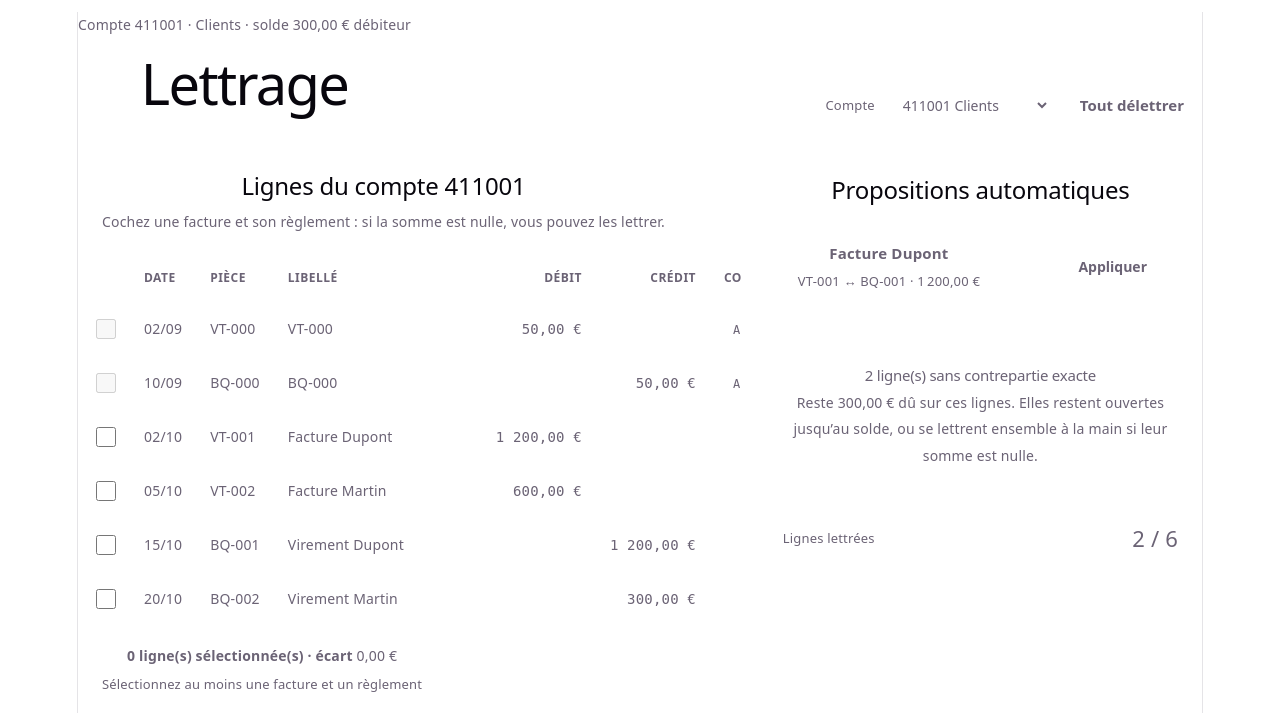
Test: LettrageView › délettre un code depuis le tableau
This screenshot has width=1280, height=713.
Click the button with class "code-button" in the row of "02/09". click: (737,330)
box: [724,320,749,340]
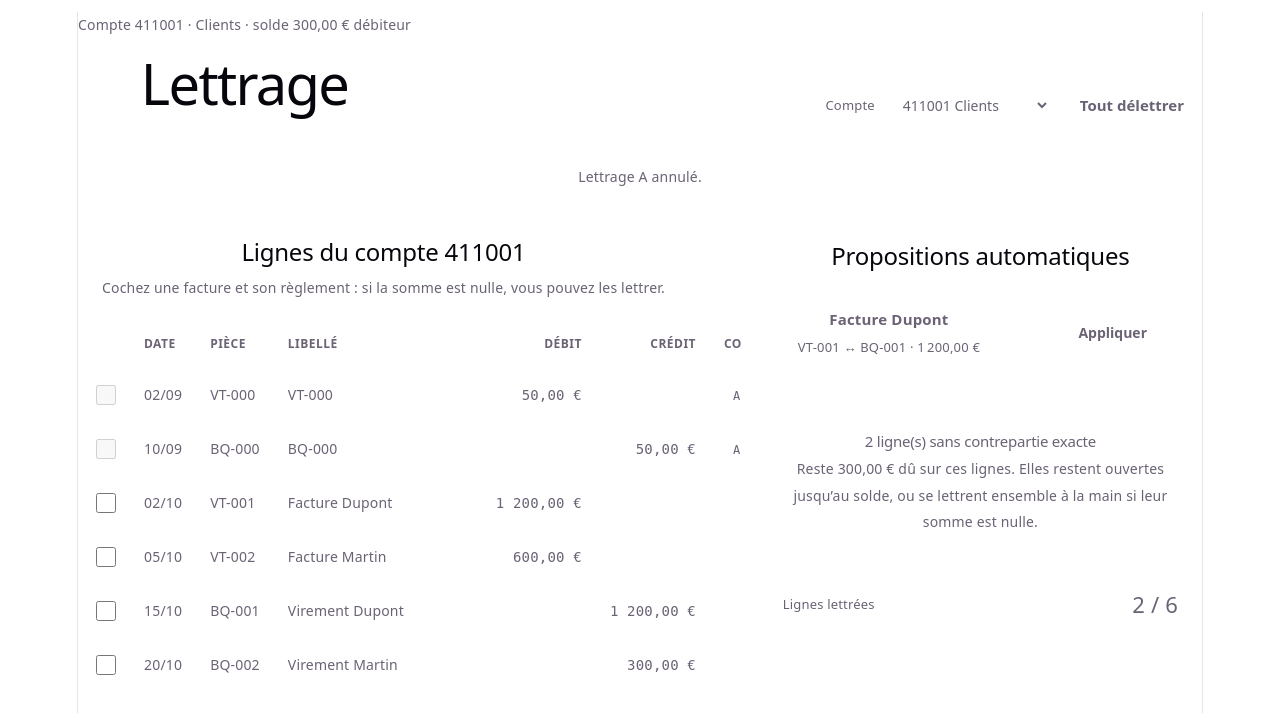
Now the message with class "lettrage-success" reads "Lettrage A annulé.", box [578,167,702,186]
